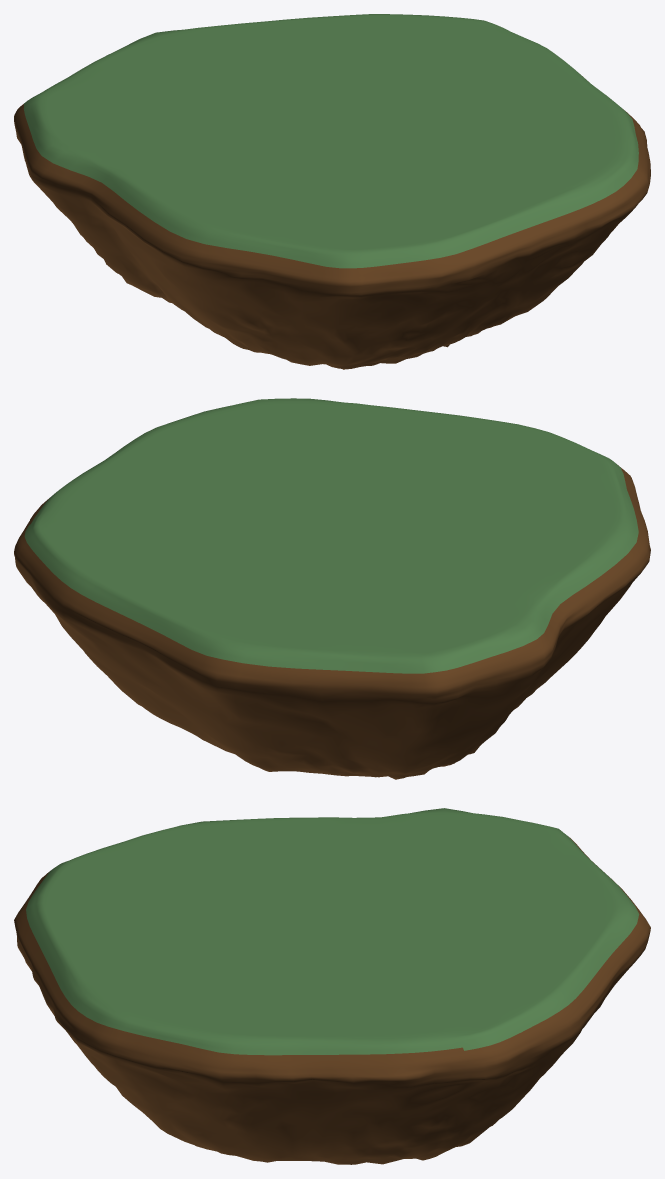
File: moving_plat_1.fbx
3 renders of one model, top to bottom at view 1: azimuth 30°, elevation 25°; view 2: azimuth 150°, elevation 25°; view 3: azimuth 270°, elevation 25°, orthographic. The views are drawn at different scales.
Visible parts, largest first — view 1: polySurface15; view 2: polySurface15; view 3: polySurface15.
Part boxes in pixels (x1,y1,x2,y2): polySurface15: (14,14,650,369); polySurface15: (14,398,650,779); polySurface15: (14,808,650,1164).
Bounding box in the file's own units: 16.95 × 5.24 × 17.88.
